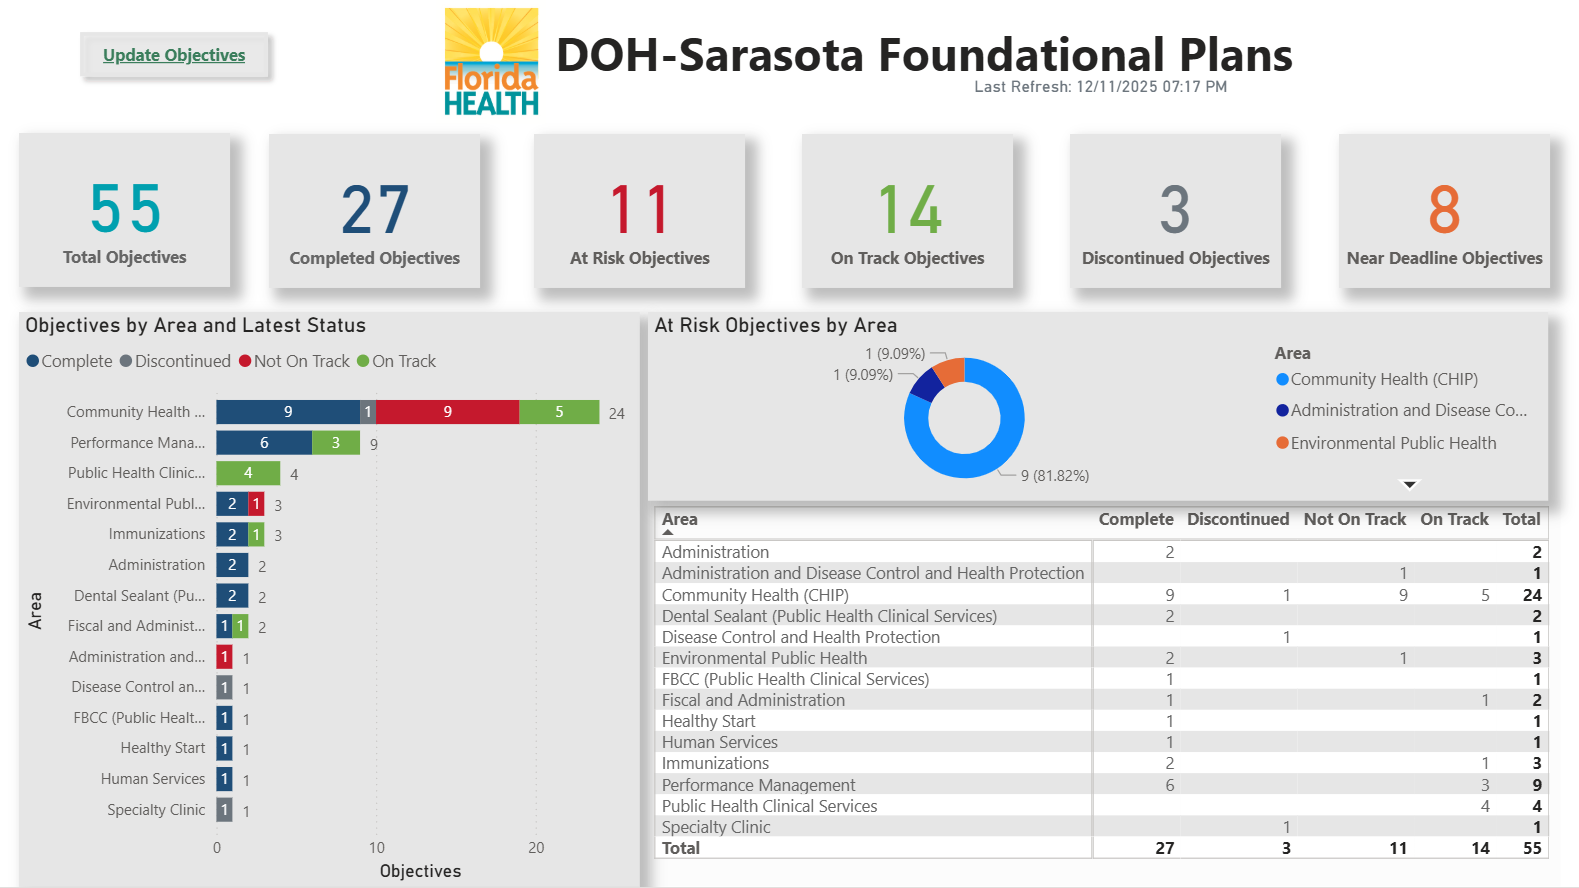

What the dashboard file says about the page in this screenshot:
{"tool":"powerbi","page":{"name":"Page 1","canvas":[1280,720],"ordinal":0},"visuals":[{"type":"card","fields":{"Values":["Area Mapping.Total Objectives"]},"box":[9.7,112.8,170,124.5],"z":0},{"type":"card","fields":{"Values":["Unified data.Completed Objectives"]},"box":[211.1,113.8,170.2,124],"z":1000},{"type":"card","fields":{"Values":["Unified data.At Risk Objectives"]},"box":[424.1,113.8,170.2,124],"z":2000},{"type":"card","fields":{"Values":["Unified data.On Track Objectives"]},"box":[640,113.8,170,124],"z":3000},{"type":"card","fields":{"Values":["Unified data.Discontinued Objectives"]},"box":[855.9,113.8,170,124],"z":4000},{"type":"textbox","box":[10,570,280,150],"z":5000},{"type":"card","fields":{"Values":["Unified data.Near Deadline Objectives"]},"box":[1072.8,113.8,170,124],"z":6000},{"type":"barChart","fields":{"Category":["Unified data.Area"],"Y":["CountNonNull(Unified data.Objectives)"],"Series":["Unified data.Latest Status.1"]},"box":[9.7,256.8,499.9,463],"z":7000},{"type":"pivotTable","fields":{"Rows":["Unified data.Area"],"Columns":["Unified data.Latest Status.1"],"Values":["CountNonNull(Unified data.Objectives)"]},"box":[516.5,408.5,735.3,311.2],"z":8000},{"type":"donutChart","fields":{"Y":["Unified data.At Risk Objectives (Not On Track Status)"],"Category":["Unified data.Area"]},"box":[516.5,256.8,724.6,151.7],"z":9000},{"type":"image","box":[332.6,0,114.8,109.9],"z":10000},{"type":"textbox","box":[436.7,1,711,120.6],"z":11000},{"type":"card","fields":{"Values":["Unified data.Last Refresh"]},"box":[731.4,62.2,299.6,26.3],"z":12000},{"type":"actionButton","box":[49.6,22.4,169.2,53.5],"z":13000}]}

Visuals, with their boxes in screenshot pixels (x1, y1, x2, y2), scaled from the page's 1280x720 canvas onto the 1579x888 screenshot:
card - Area Mapping.Total Objectives: bbox=(12, 139, 222, 293)
card - Unified data.Completed Objectives: bbox=(260, 140, 470, 293)
card - Unified data.At Risk Objectives: bbox=(523, 140, 733, 293)
card - Unified data.On Track Objectives: bbox=(790, 140, 999, 293)
card - Unified data.Discontinued Objectives: bbox=(1056, 140, 1266, 293)
textbox: bbox=(12, 703, 358, 887)
card - Unified data.Near Deadline Objectives: bbox=(1323, 140, 1533, 293)
barChart - Unified data.Area x CountNonNull(Unified data.Objectives): bbox=(12, 317, 629, 887)
pivotTable - Unified data.Area x Unified data.Latest Status.1: bbox=(637, 504, 1544, 887)
donutChart - Unified data.At Risk Objectives (Not On Track Status) x Unified data.Area: bbox=(637, 317, 1531, 504)
image: bbox=(410, 0, 552, 136)
textbox: bbox=(539, 1, 1416, 150)
card - Unified data.Last Refresh: bbox=(902, 77, 1272, 109)
actionButton: bbox=(61, 28, 270, 94)
